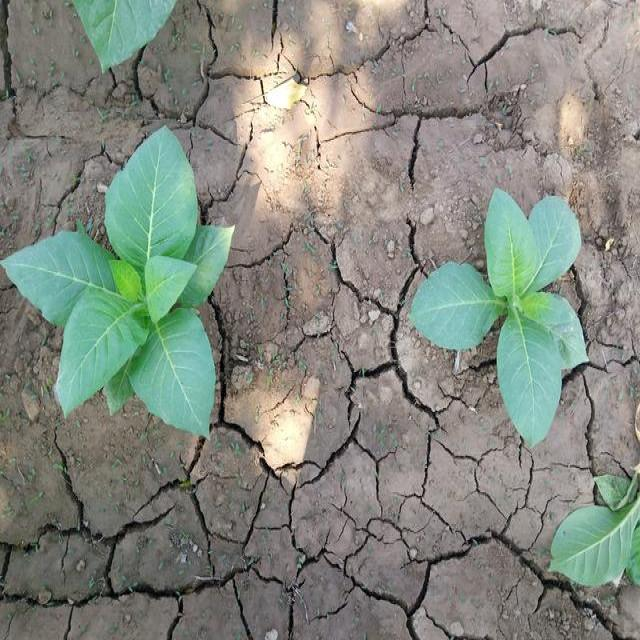crop: (14, 142, 226, 442), (414, 188, 586, 439), (553, 474, 640, 590), (74, 0, 190, 69)
